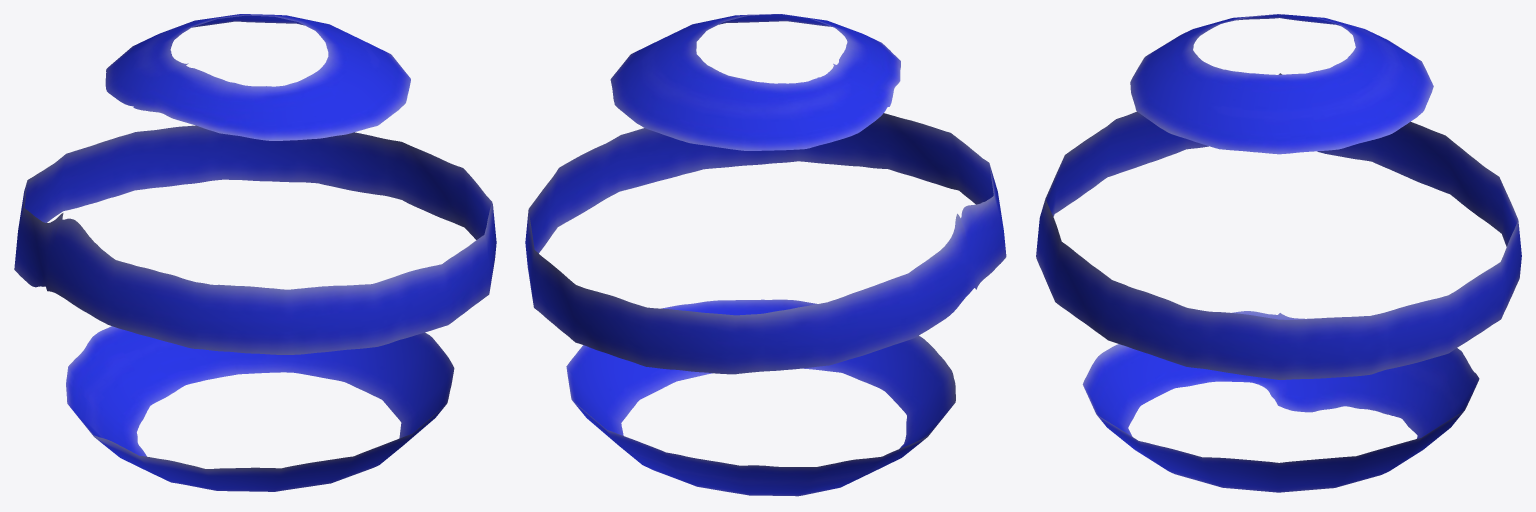
File: Marble glass.fbx
The picture shows the model from 3 angles, left to right: view 1: azimuth 30°, elevation 25°; view 2: azimuth 150°, elevation 25°; view 3: azimuth 270°, elevation 25°; orthographic projection.
Parts seen in each view (by area): view 1: Blue stripes jolen; view 2: Blue stripes jolen; view 3: Blue stripes jolen.
Part boxes in pixels (x1,y1,x2,y2): Blue stripes jolen: [14, 14, 496, 491]; Blue stripes jolen: [525, 14, 1006, 496]; Blue stripes jolen: [1036, 14, 1521, 492].
Bounding box in the file's own units: 200 × 200 × 200.
